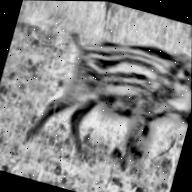boar: (31, 16, 192, 181)
